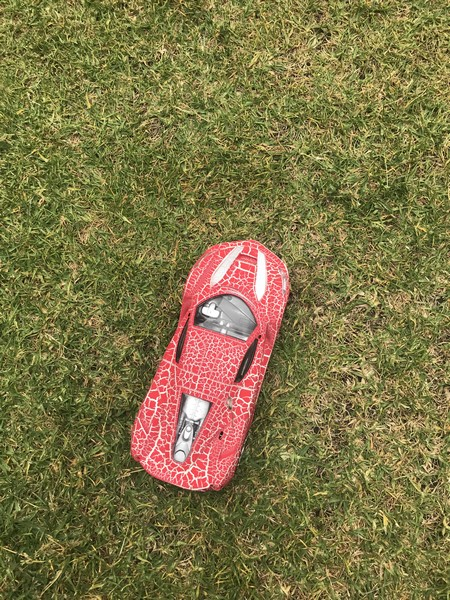RC: (129, 238, 295, 496)
